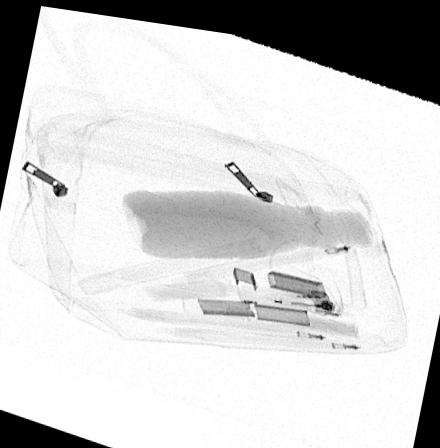Lighter: (235, 274, 339, 305)
